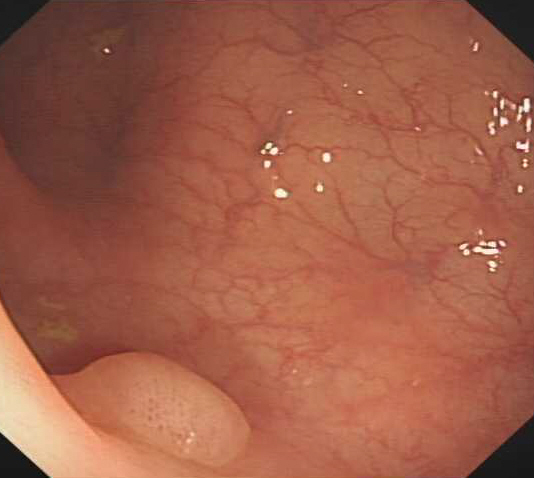others: (60, 347, 254, 470)
